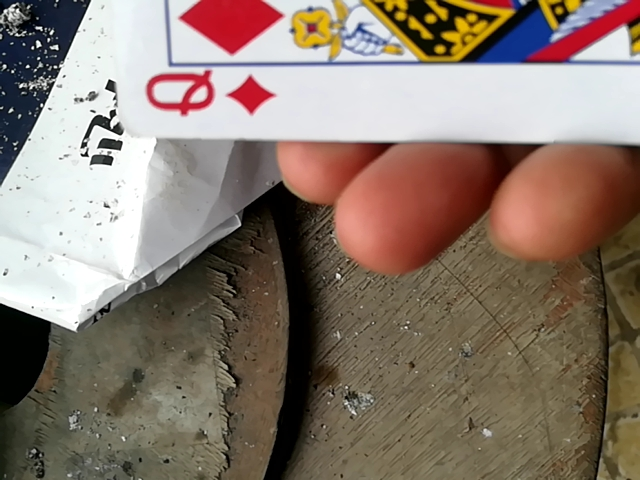fk q: (74, 0, 640, 160)
